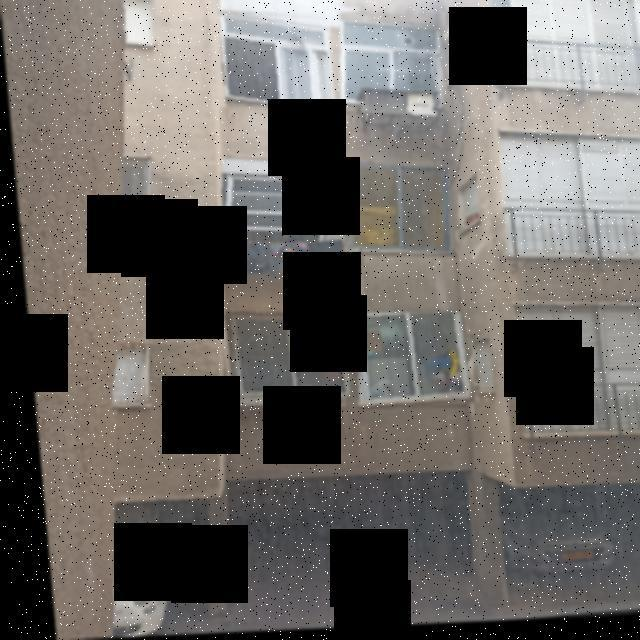Window: (206, 303, 343, 404), (330, 13, 461, 118), (216, 152, 340, 262), (202, 10, 334, 110), (345, 314, 473, 416), (333, 164, 464, 260), (103, 136, 158, 226), (93, 335, 143, 412), (87, 0, 154, 52)
